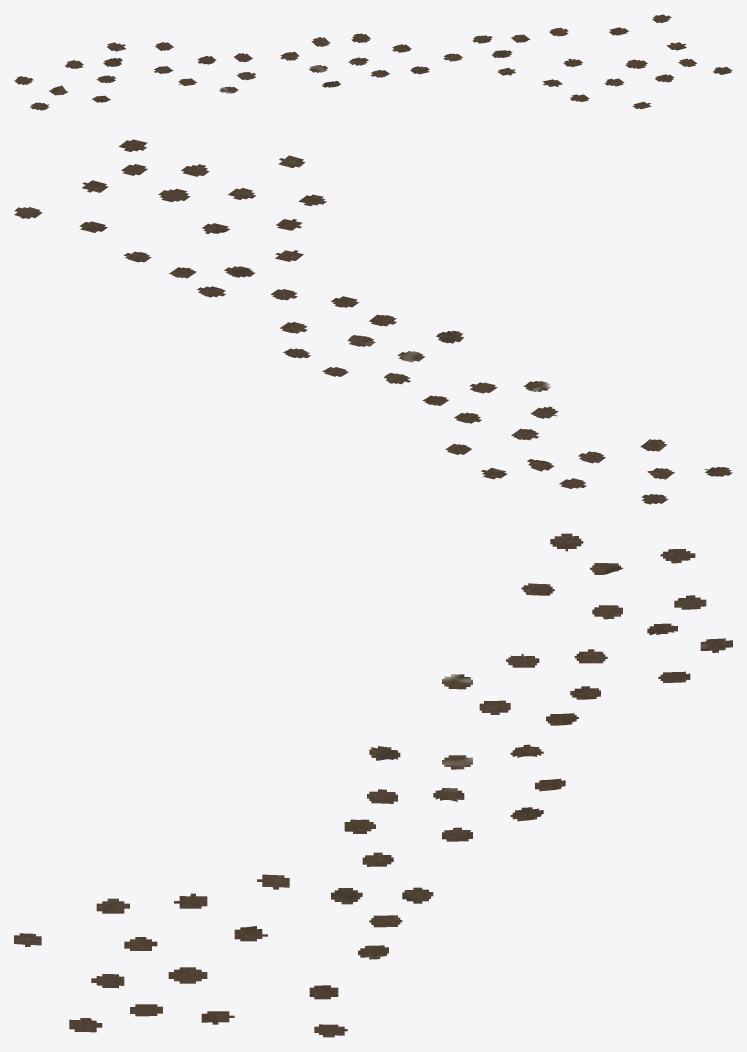
Rendered from PantanoTapas.glb.
3 views of the same model, one above another, from view 1: azimuth 30°, elevation 25°; view 2: azimuth 150°, elevation 25°; view 3: azimuth 270°, elevation 25° (orthographic). The views are drawn at different scales.
Size of the model in its own units: 187 by 0.9111 by 113.
Materials: 1 (1 with a texture image).
